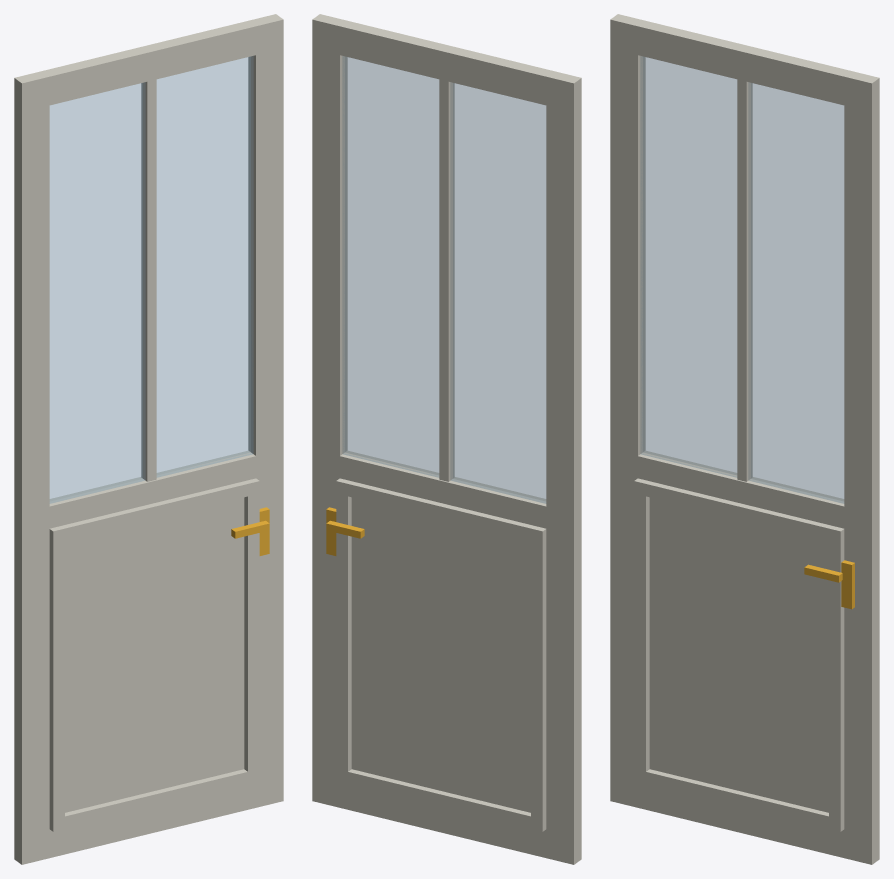
Rendered from SM_Door_ra_100x283.fbx.
3 renders of one model, left to right at view 1: azimuth 30°, elevation 25°; view 2: azimuth 150°, elevation 25°; view 3: azimuth 330°, elevation 25°, orthographic.
Parts seen in each view (by area): view 1: SM_Door_ra_100x283; view 2: SM_Door_ra_100x283; view 3: SM_Door_ra_100x283.
Part boxes in pixels (x1,y1,x2,y2): SM_Door_ra_100x283: (14,14,283,864); SM_Door_ra_100x283: (312,14,581,864); SM_Door_ra_100x283: (610,14,879,864).
Bounding box in the file's own units: 0.988 × 2.82 × 0.175.
